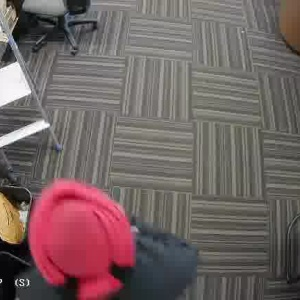person: (8, 182, 193, 295)
